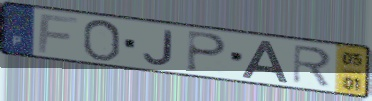A: (239, 39, 290, 84)
F: (36, 12, 80, 55)
J: (141, 28, 175, 67)
O: (80, 19, 123, 63)
P: (184, 29, 229, 74)
R: (291, 43, 334, 88)
